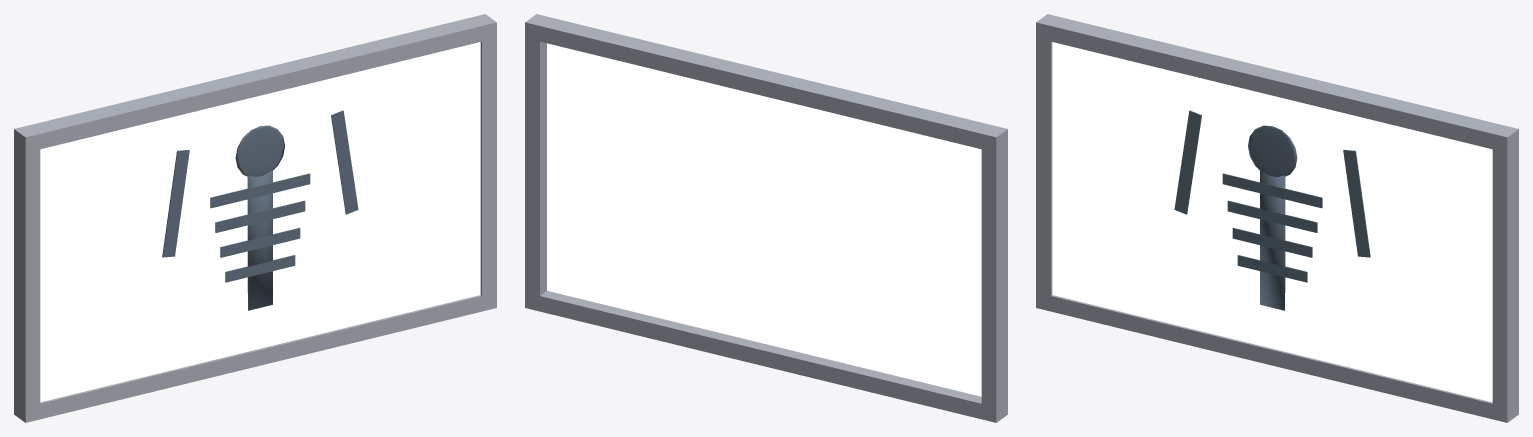
File: xray_lightbox.glb
The picture shows the model from 3 angles, left to right: view 1: azimuth 30°, elevation 25°; view 2: azimuth 150°, elevation 25°; view 3: azimuth 330°, elevation 25°; orthographic projection.
Parts seen in each view (by area): view 1: root; view 2: root; view 3: root.
Boxes of the visible parts, <box> form: root: <box>14,14,496,422</box>; root: <box>525,14,1007,422</box>; root: <box>1036,14,1518,422</box>.
Size of the model in its own units: 1.9 by 1.1 by 0.08.
